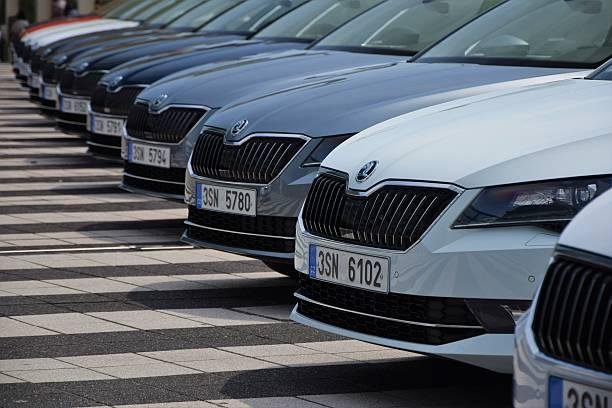skoda: (348, 154, 381, 186), (226, 114, 251, 137)
